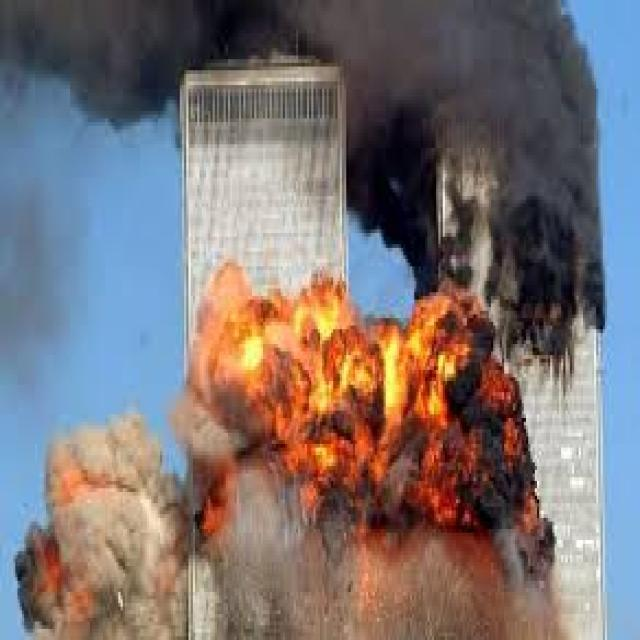Fire: (208, 248, 516, 528)
Smoke: (383, 0, 605, 296), (8, 410, 205, 640), (0, 0, 182, 137), (381, 531, 558, 640), (207, 529, 380, 638), (183, 0, 381, 81)
